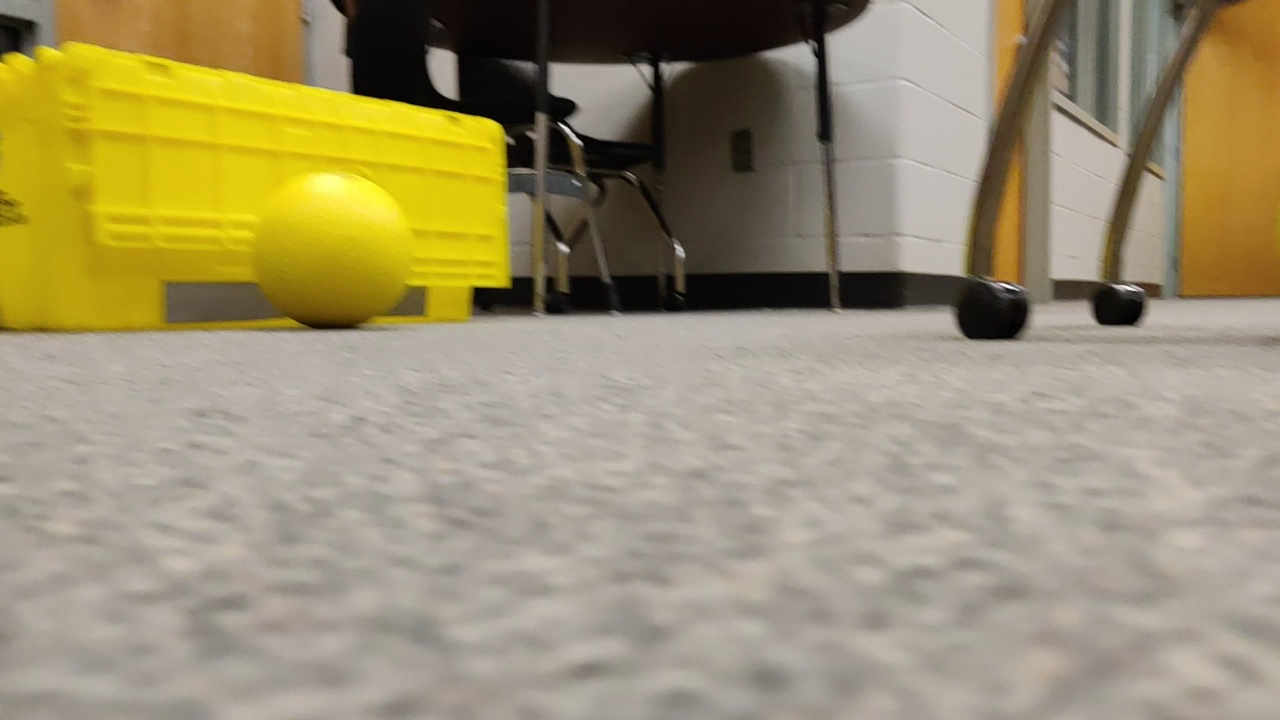Ball: (248, 171, 416, 333)
